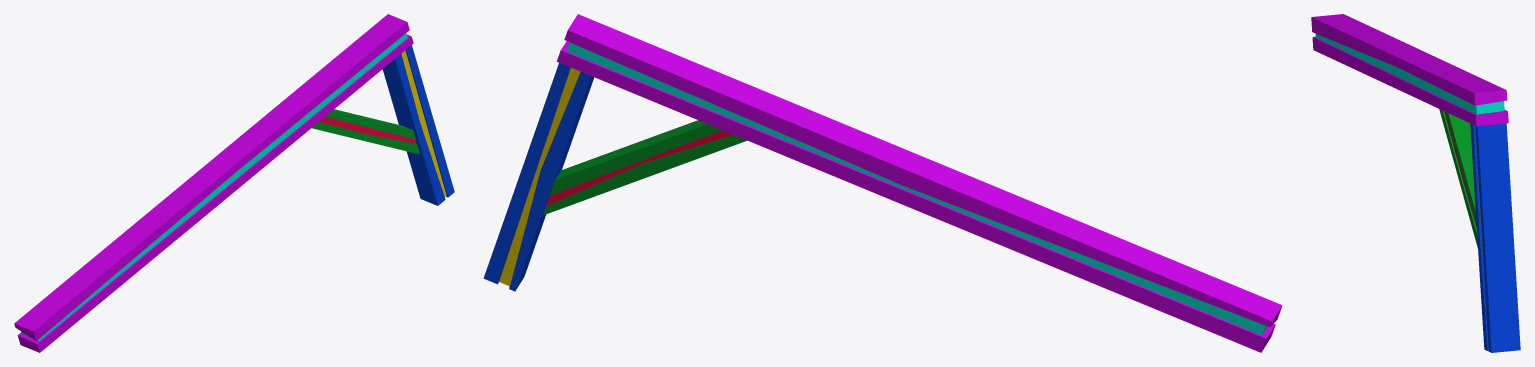
Rendered from ReaperBeamV3.fbx.
3 views of the same model, side by side, from view 1: azimuth 30°, elevation 25°; view 2: azimuth 150°, elevation 25°; view 3: azimuth 270°, elevation 25° (orthographic). The views are drawn at different scales.
Visible parts, largest first — view 1: Cube, Cube.001, Cube.002; view 2: Cube, Cube.001, Cube.002; view 3: Cube, Cube.001, Cube.002.
Boxes of the visible parts, x1,y1,x2,y2 form: Cube: (14,14,413,352); Cube.001: (382,45,454,205); Cube.002: (311,109,420,154); Cube: (557,14,1282,352); Cube.001: (483,63,594,291); Cube.002: (542,120,746,215); Cube: (1311,14,1508,126); Cube.001: (1470,123,1520,352); Cube.002: (1439,109,1477,247).
Bounding box in the file's own units: 3462 × 1291 × 1037.
